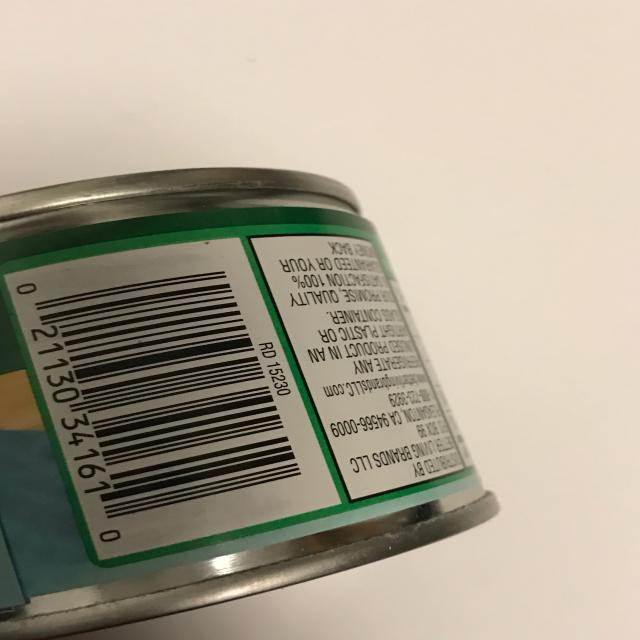metal: (1, 165, 506, 640)
